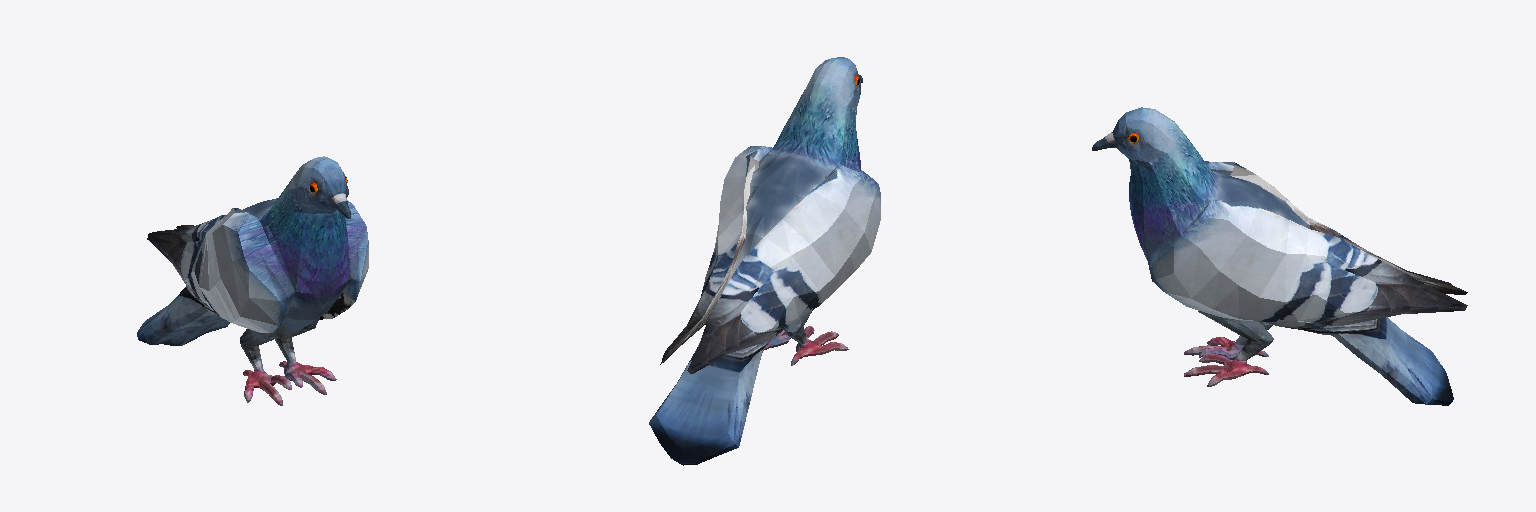
3 views of the same model, side by side, from view 1: azimuth 30°, elevation 25°; view 2: azimuth 150°, elevation 25°; view 3: azimuth 270°, elevation 25° (orthographic).
Visible parts, largest first — view 1: pigeon_Cube.001; view 2: pigeon_Cube.001; view 3: pigeon_Cube.001.
Part boxes in pixels (x1,y1,x2,y2): pigeon_Cube.001: (137,156,368,405); pigeon_Cube.001: (649,57,880,465); pigeon_Cube.001: (1092,107,1467,405).
Bounding box in the file's own units: 5.8 × 12.3 × 14.24.
2 materials, 2 textured.